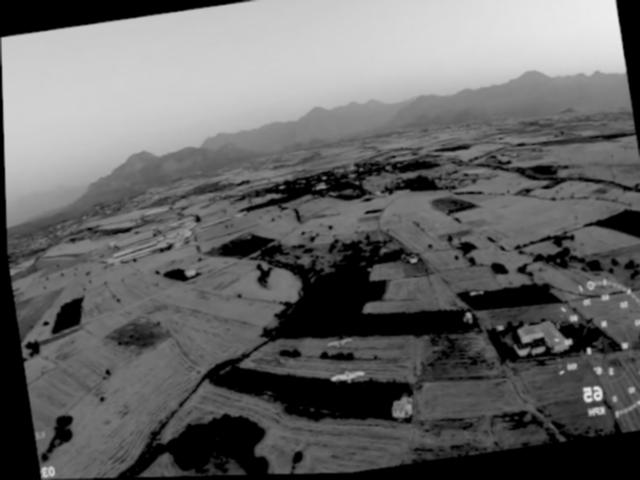hedef: (323, 361, 367, 391)
